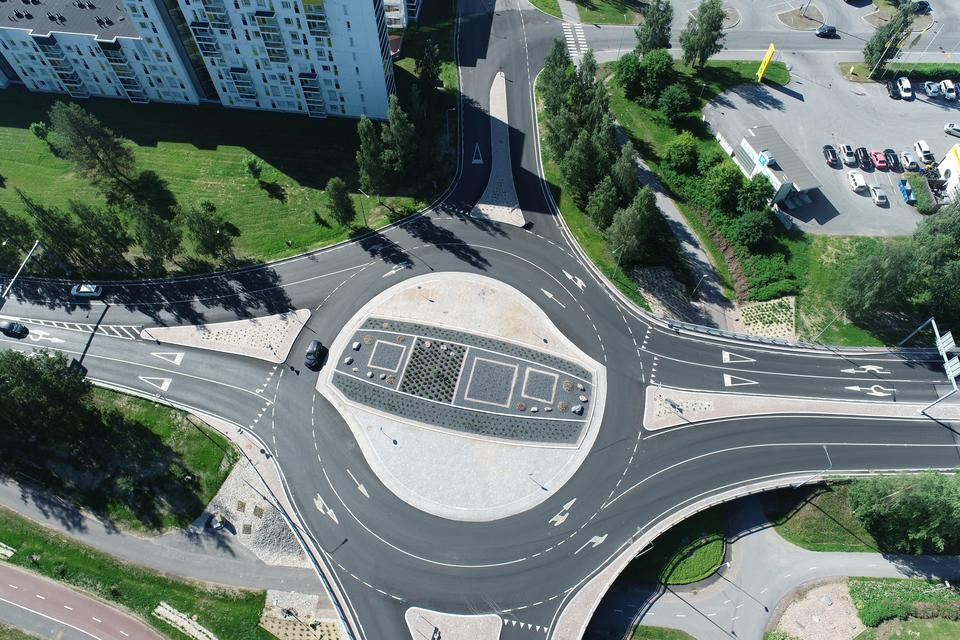intersection: (436, 2, 622, 86)
roundabout: (238, 169, 686, 640)
